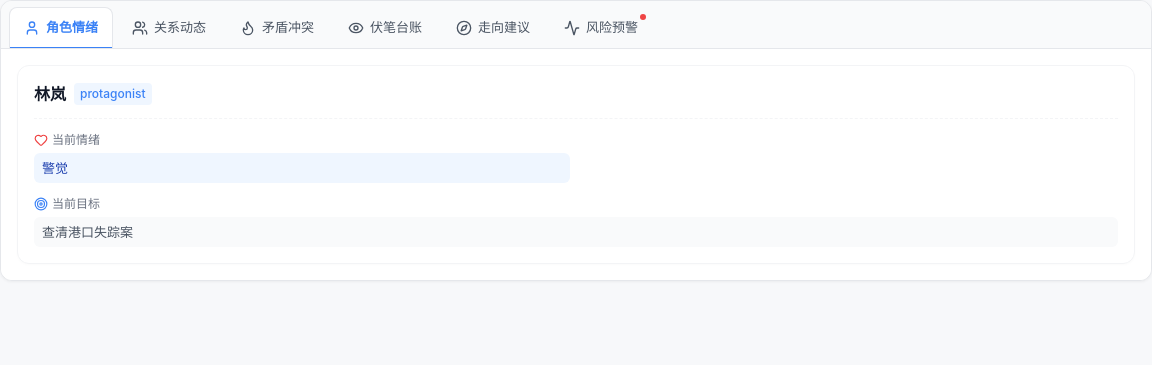
Scenario: cockpit information panels › switches across every narrative state panel with representative data
The width and height of the screenshot is (1152, 365).
Click the button "关系动态". click: x=169, y=27
box: [117,7,221,48]
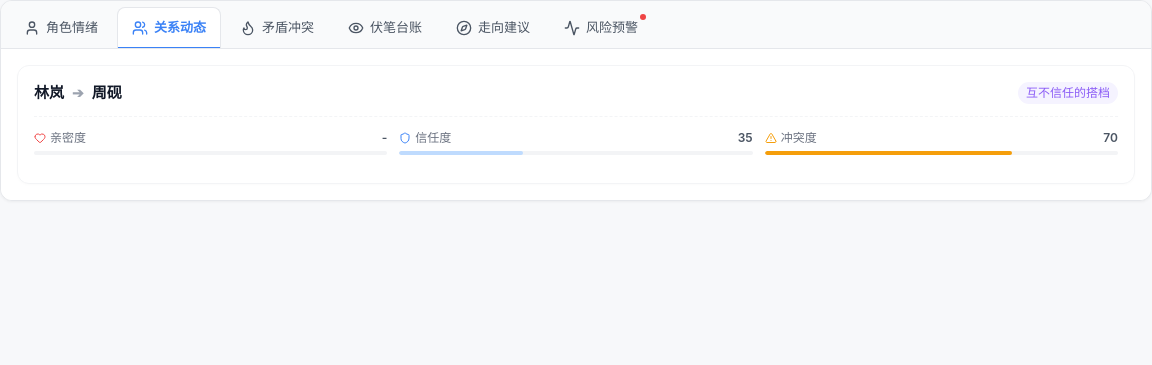
Result: the text "互不信任的搭档" is shown at [1018,82,1118,104]
Click the button "矛盾冲突". click: x=277, y=27
box: [225,7,329,48]
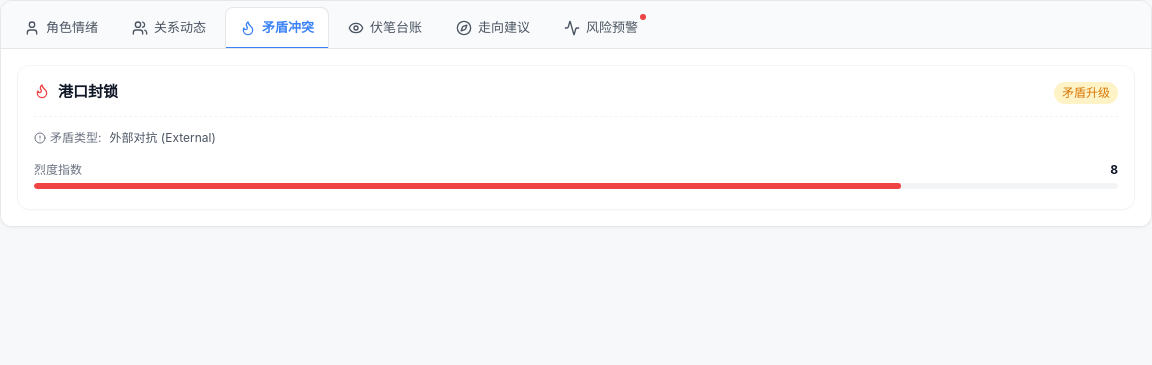
Result: the text "港口封锁" is shown at [58,82,118,101]
Click the button "伏笔台账". click: x=385, y=27
box: [333,7,437,48]
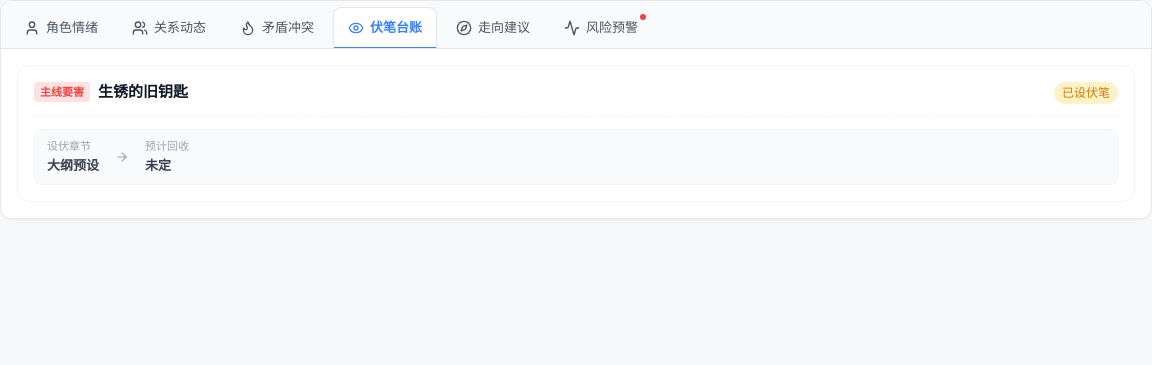
Result: the text "生锈的旧钥匙" is shown at [98,82,188,102]
Click the button "走向建议". click: x=493, y=27
box: [441,7,545,48]
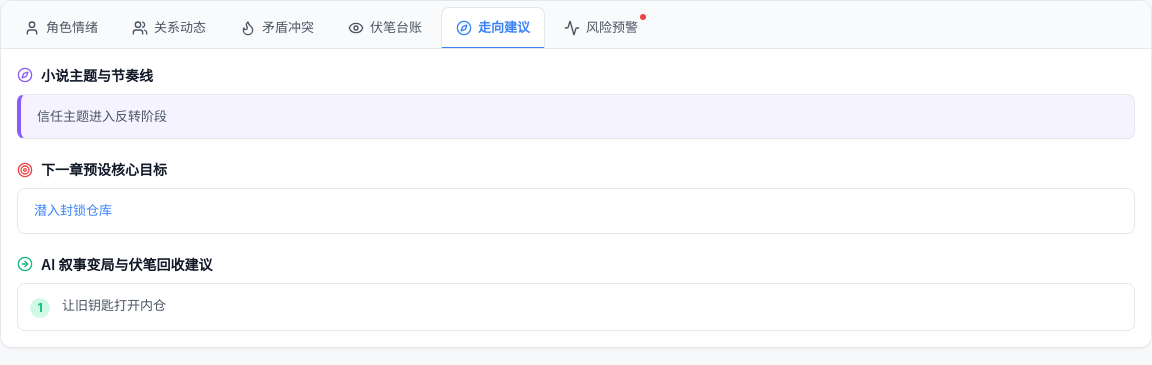
Result: the text "潜入封锁仓库" is shown at [34,202,112,218]
Click the button "风险预警". click: x=601, y=27
box: [549,7,653,48]
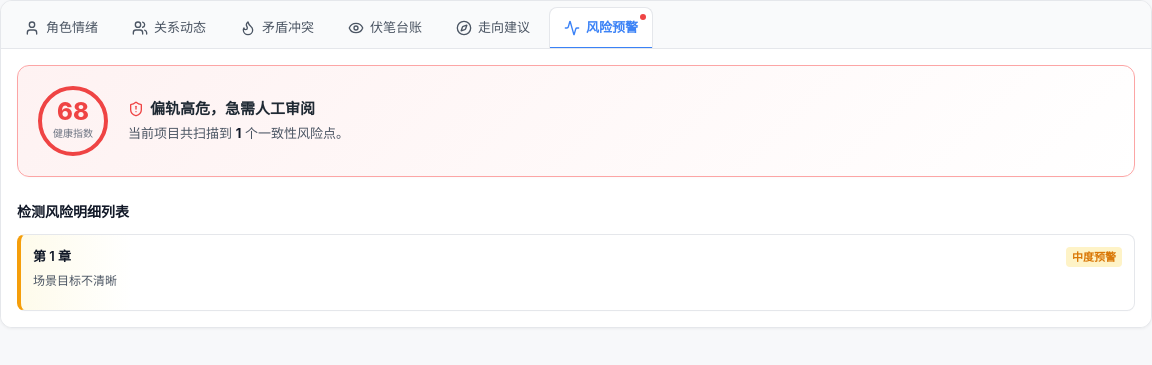
Result: the text "场景目标不清晰" is shown at [33,273,117,288]
